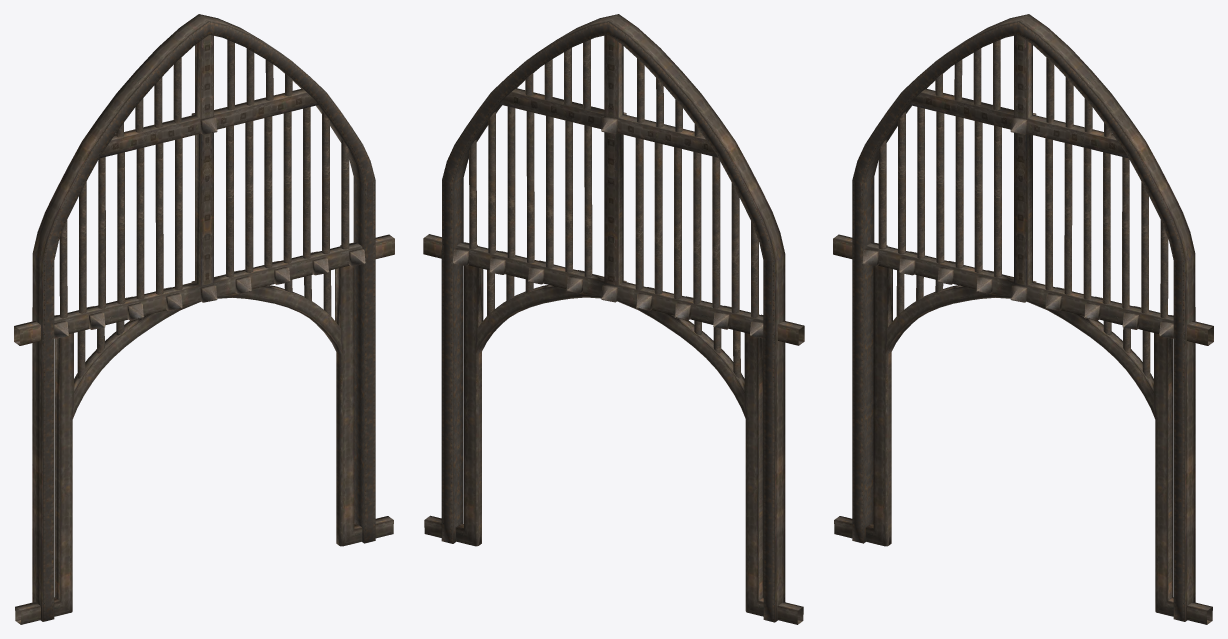
3 views of the same model, side by side, from view 1: azimuth 30°, elevation 25°; view 2: azimuth 150°, elevation 25°; view 3: azimuth 330°, elevation 25° (orthographic).
Visible parts, largest first — view 1: SM_Dowdun_Wall_Arch_8x10_Doorway_02_LOD0; view 2: SM_Dowdun_Wall_Arch_8x10_Doorway_02_LOD0; view 3: SM_Dowdun_Wall_Arch_8x10_Doorway_02_LOD0.
Part boxes in pixels (x1,y1,x2,y2): SM_Dowdun_Wall_Arch_8x10_Doorway_02_LOD0: [14, 14, 394, 624]; SM_Dowdun_Wall_Arch_8x10_Doorway_02_LOD0: [423, 14, 804, 624]; SM_Dowdun_Wall_Arch_8x10_Doorway_02_LOD0: [833, 14, 1213, 624].
Size of the model in its own units: 5.62 by 8.01 by 0.6201.
Materials: 3 (3 with a texture image).
